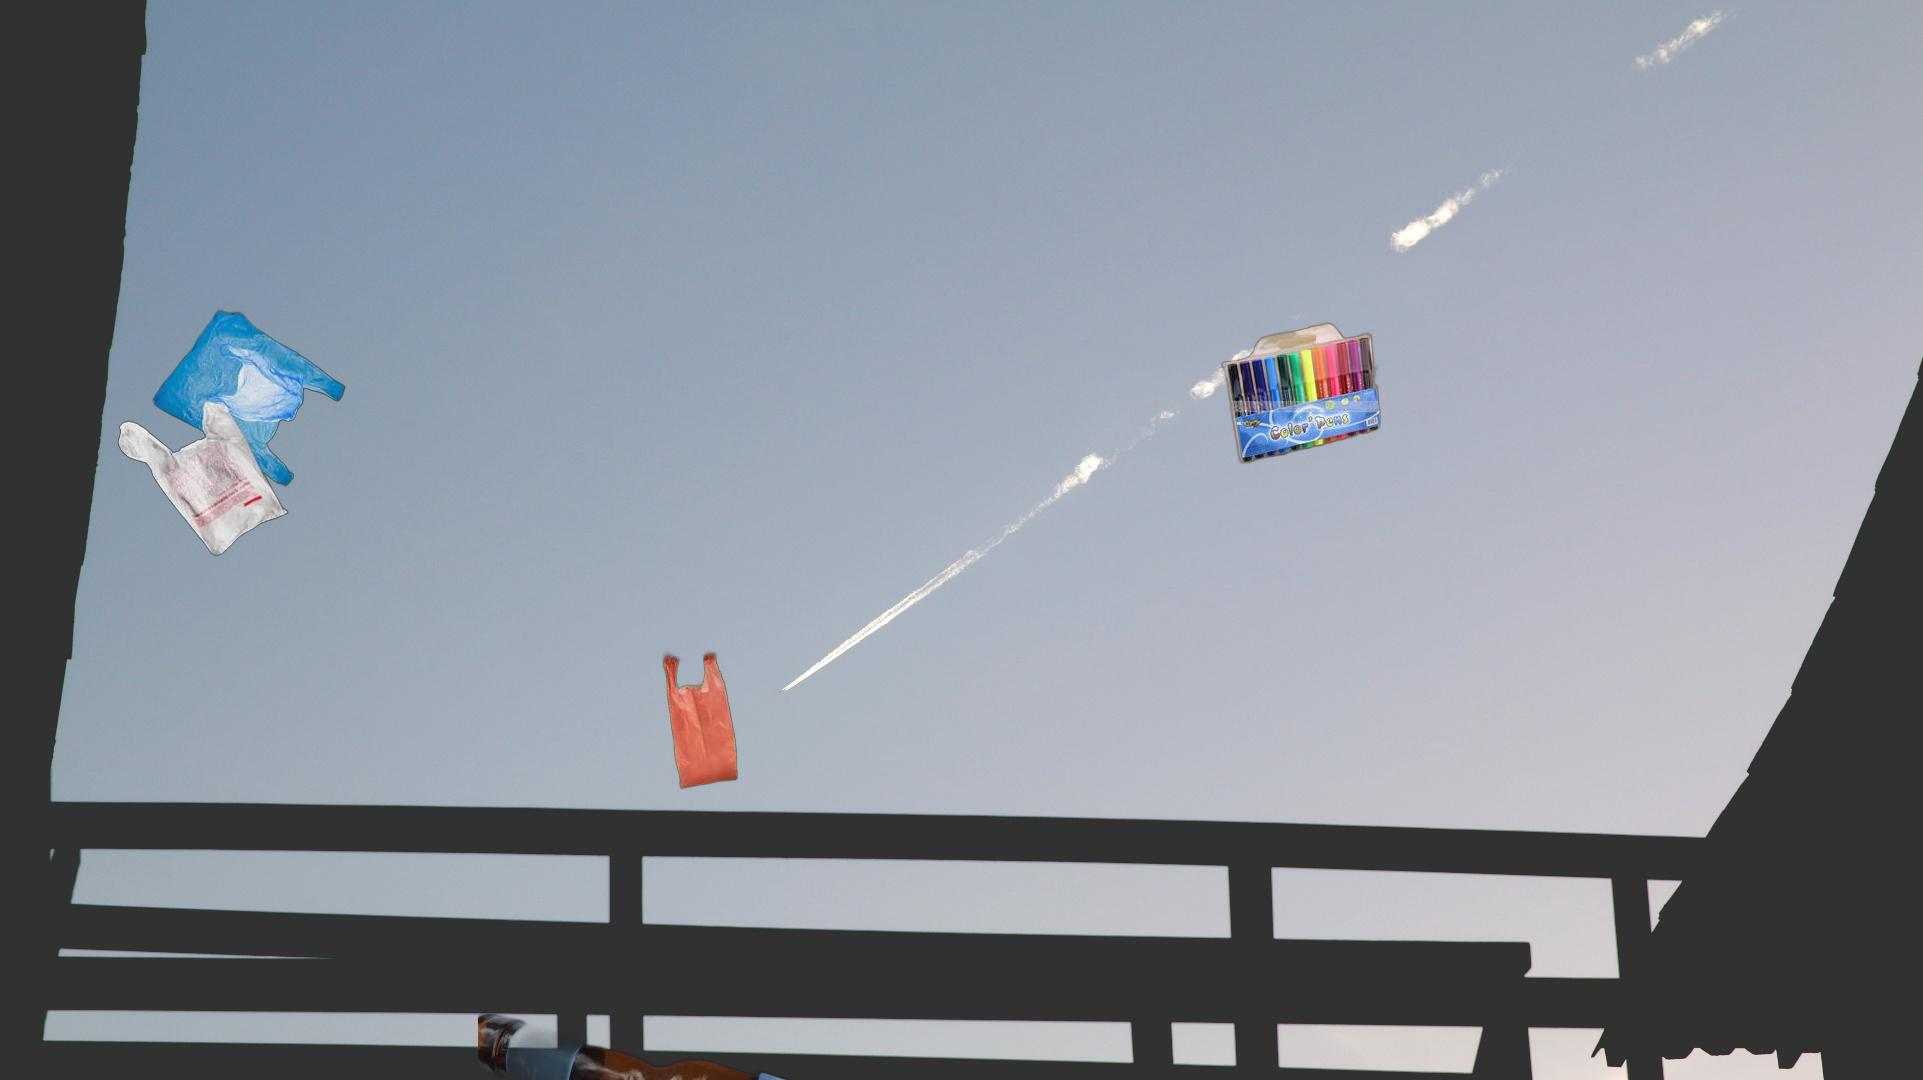glass: (478, 1009, 991, 1080)
penholder: (1220, 320, 1383, 465)
plastic-bag: (115, 297, 347, 558), (660, 647, 741, 791)
